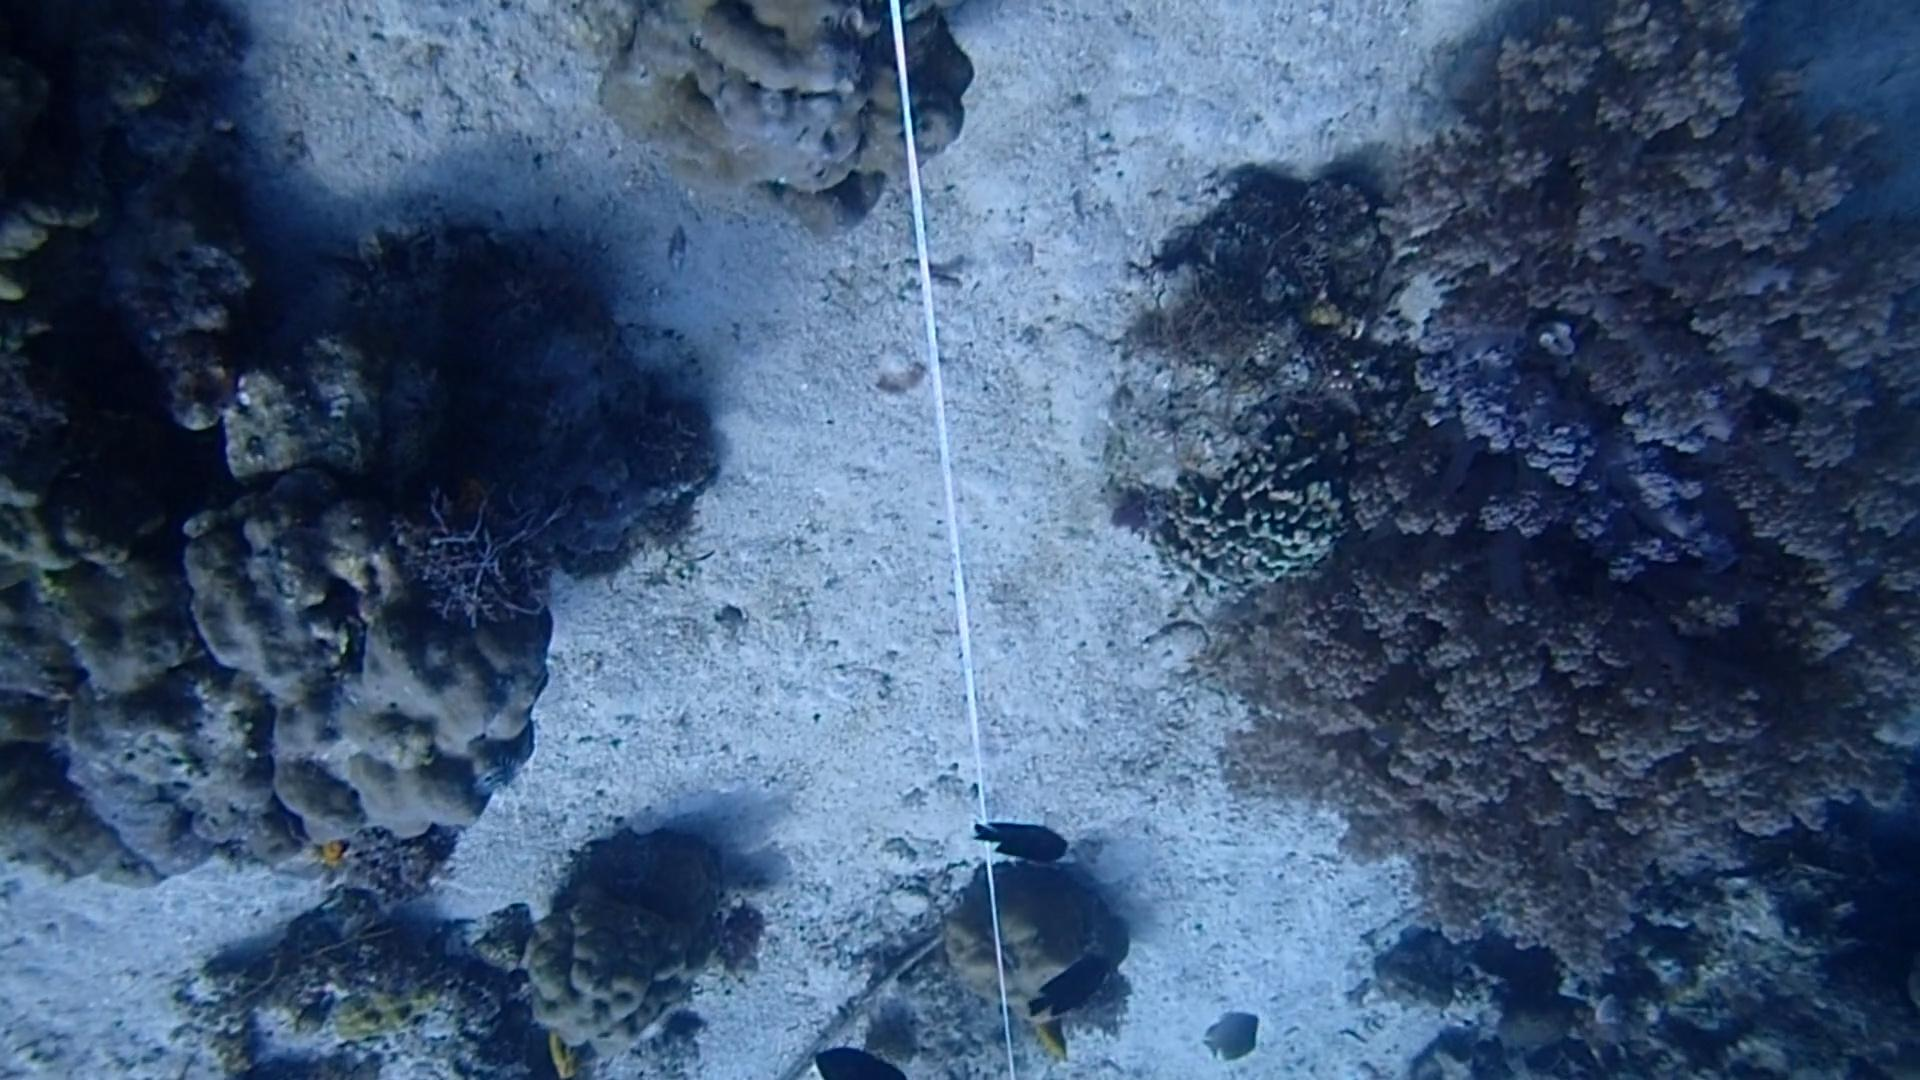Dark Fish: (1017, 952, 1125, 1025), (964, 820, 1067, 870), (1735, 378, 1809, 436), (810, 1043, 909, 1080)
Light Fish: (1196, 1001, 1265, 1062)
